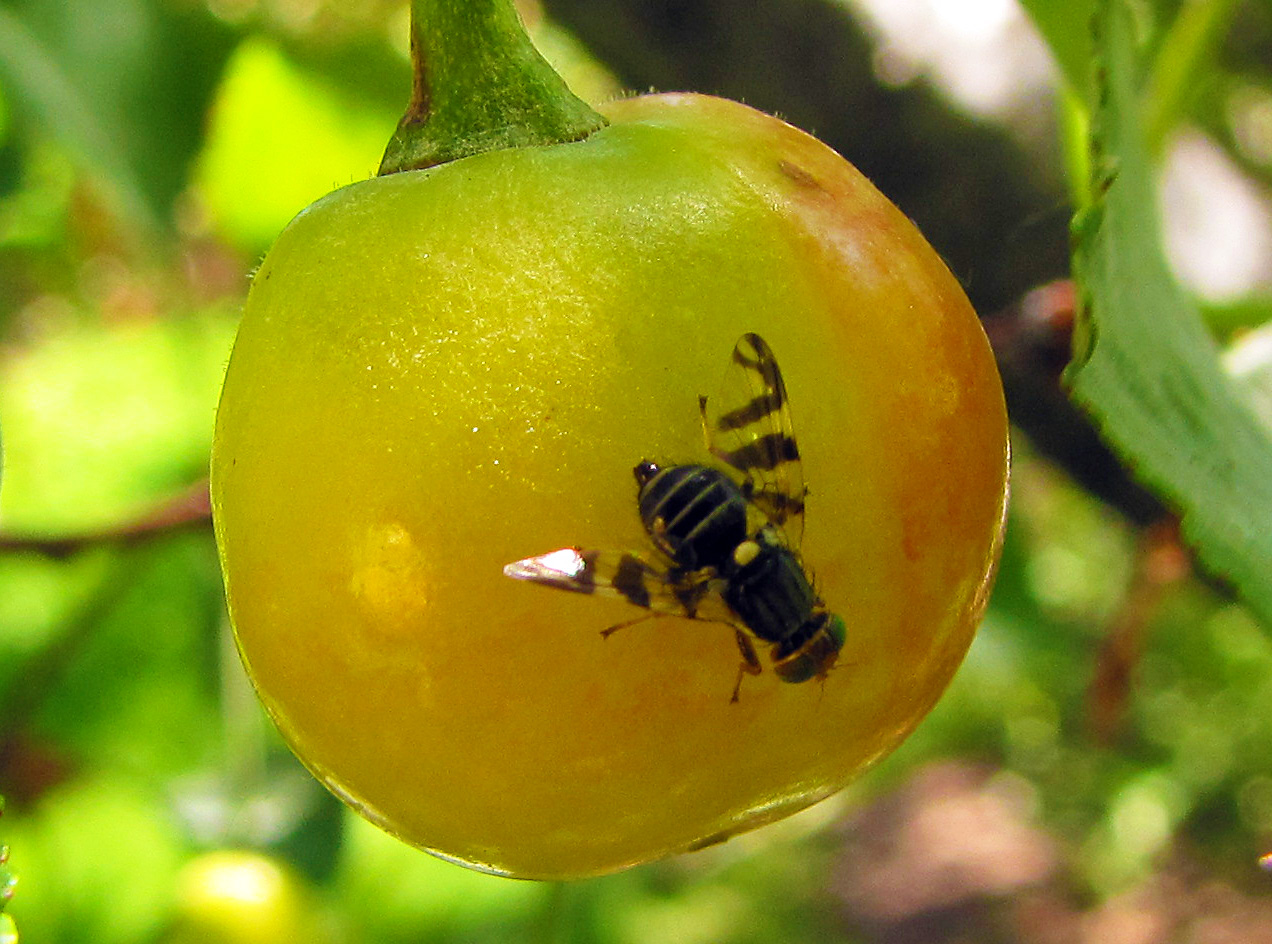Fruit fly: (518, 312, 887, 709)
